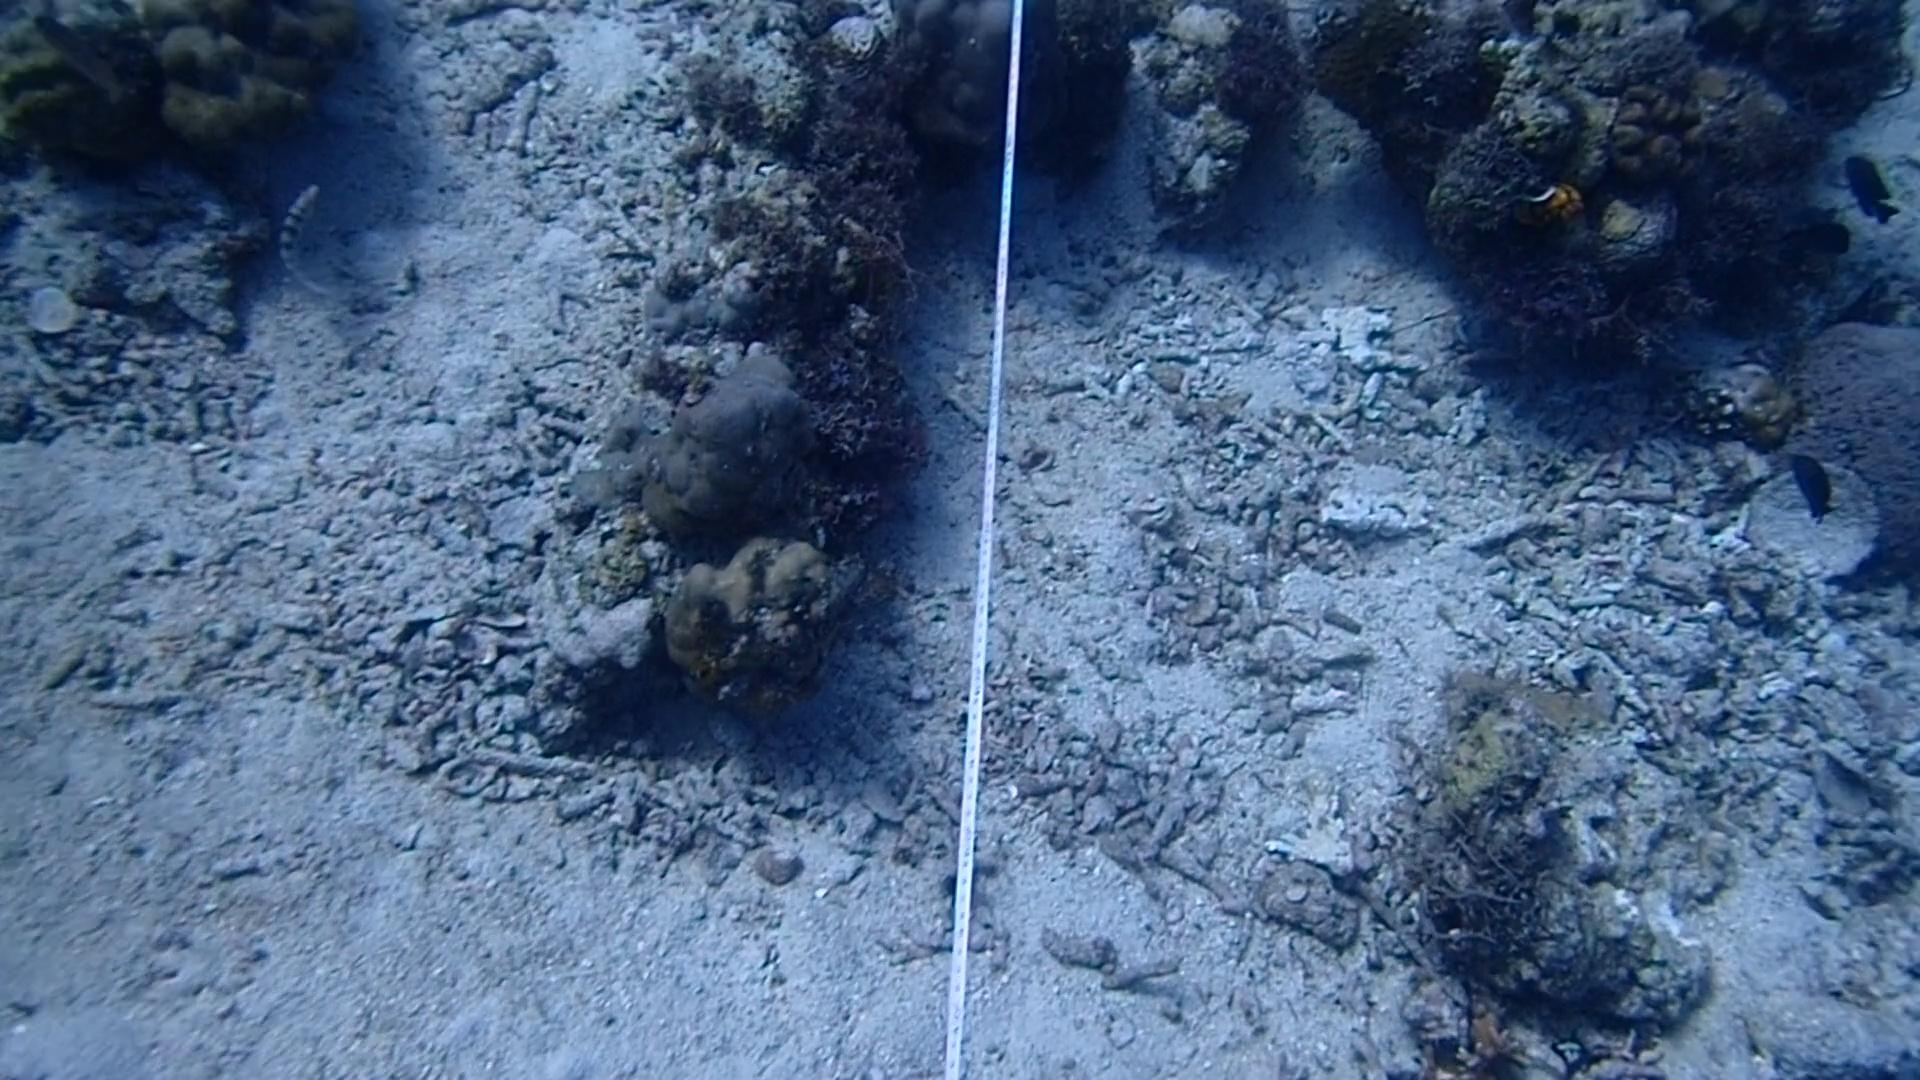Dark Fish: (1833, 141, 1915, 236), (1787, 442, 1846, 538)
Light Fish w Back Stripes: (265, 173, 355, 309)
